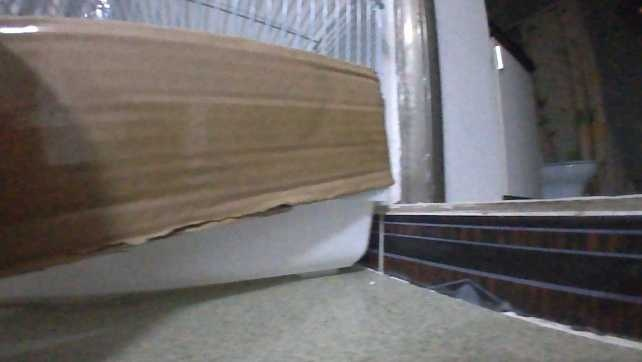door_sill: (374, 195, 641, 339)
toilet: (535, 159, 597, 195)
